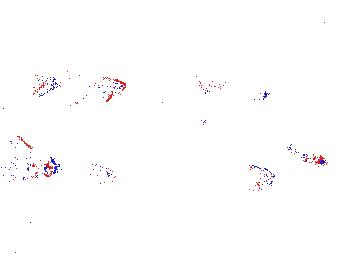X-ray fish: (231, 166, 277, 196), (82, 162, 117, 185)
glassfish: (159, 96, 238, 153)
red belly glassfish: (282, 144, 329, 168), (163, 62, 183, 75)
redtail glassfish: (36, 70, 128, 100), (1, 144, 57, 178), (196, 77, 270, 102)
